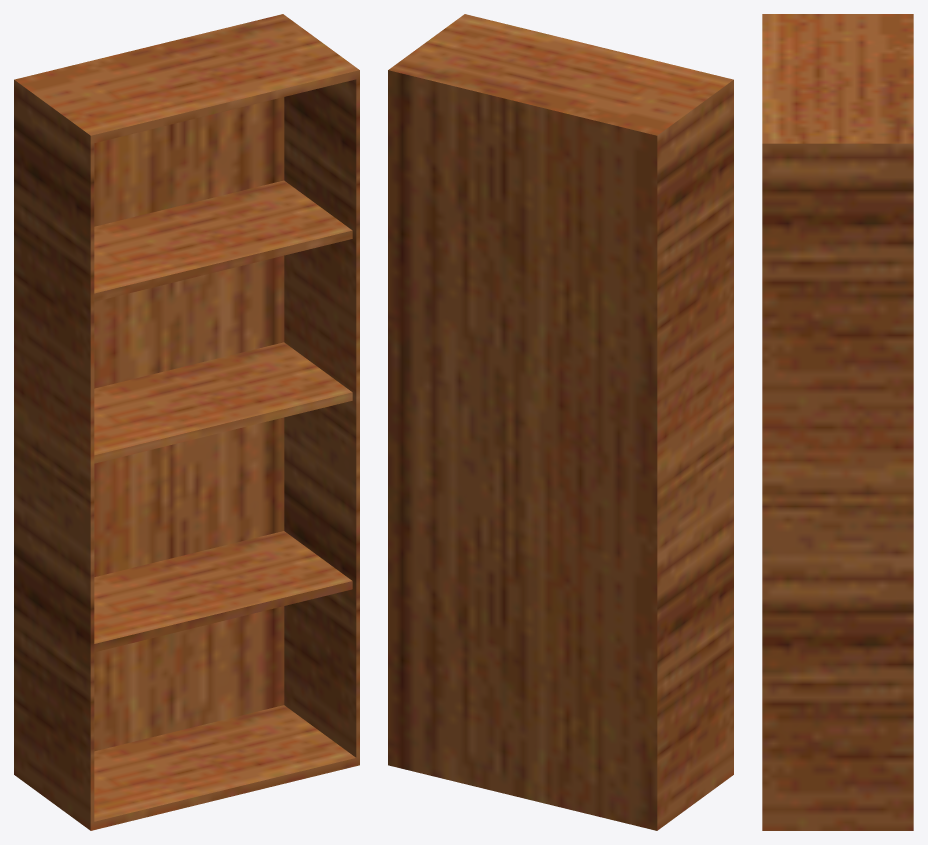
Rendered from book_case_with_back_Small.obj.
3 views of the same model, side by side, from view 1: azimuth 30°, elevation 25°; view 2: azimuth 150°, elevation 25°; view 3: azimuth 270°, elevation 25° (orthographic).
Parts seen in each view (by area): view 1: book_case_with_back_Small; view 2: book_case_with_back_Small; view 3: book_case_with_back_Small.
Part boxes in pixels (box(x1,y1,x2,y2)): book_case_with_back_Small: box(14, 14, 359, 830); book_case_with_back_Small: box(388, 14, 733, 830); book_case_with_back_Small: box(762, 14, 913, 830).
Bounding box in the file's own units: 1.01 × 2.5 × 0.5.
